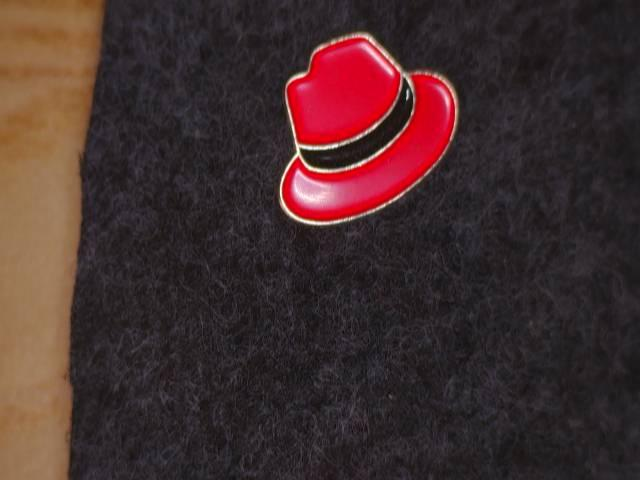Red-Hat: (252, 16, 505, 258)
